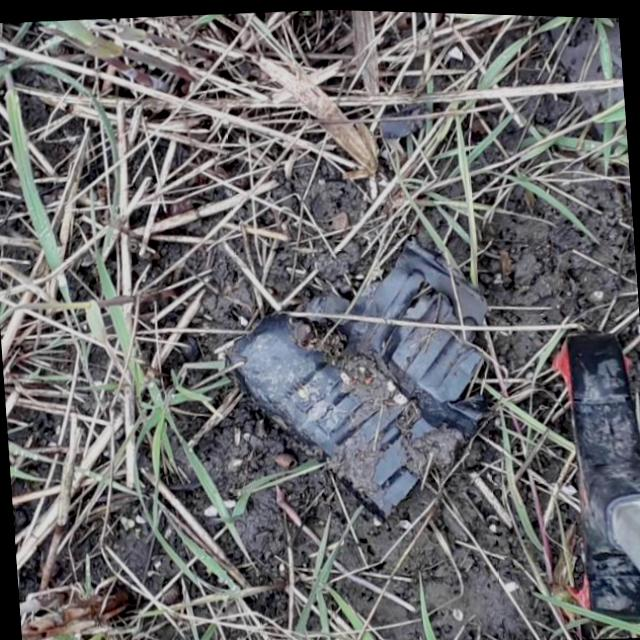Plastic: (216, 220, 516, 538)
